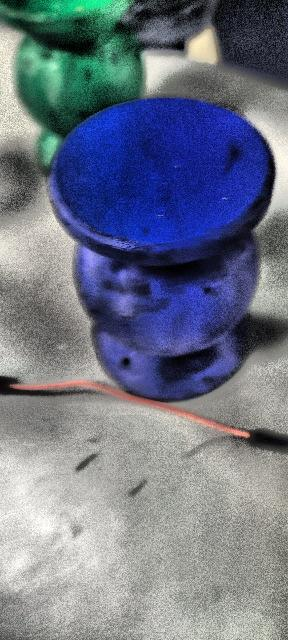blue: (48, 96, 276, 400)
green: (0, 0, 143, 176)
